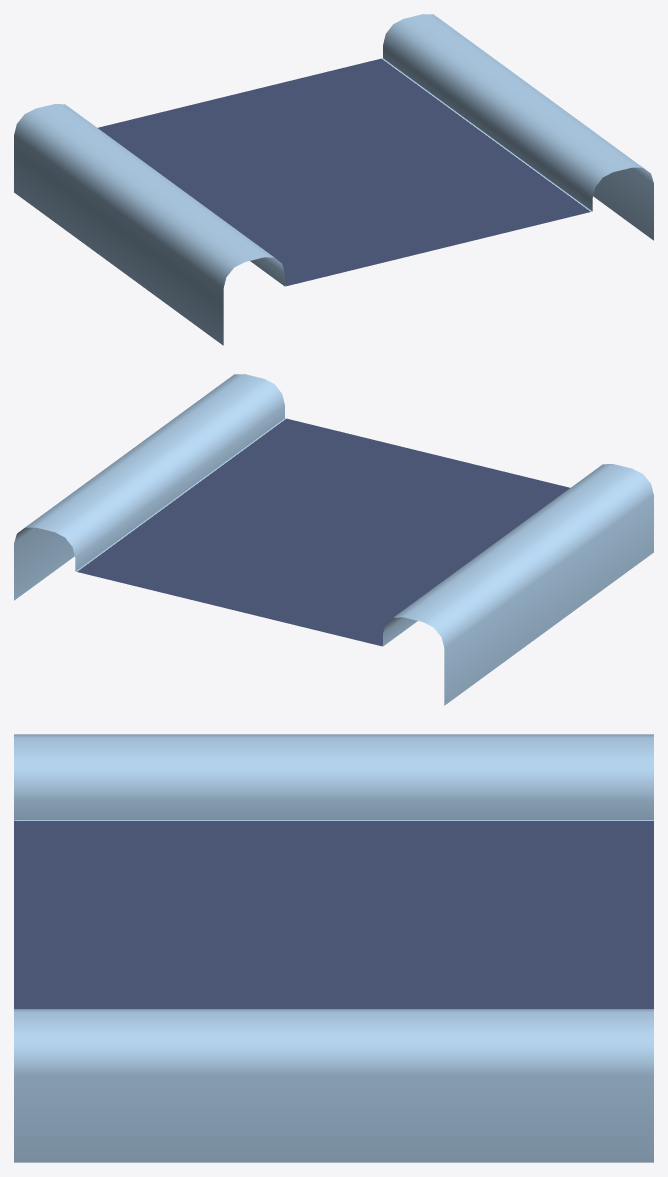
File: ConveyorBelt_part.fbx
3 views of the same model, one above another, from view 1: azimuth 30°, elevation 25°; view 2: azimuth 150°, elevation 25°; view 3: azimuth 270°, elevation 25° (orthographic). The views are drawn at different scales.
Visible parts, largest first — view 1: ConveyorBelt_part; view 2: ConveyorBelt_part; view 3: ConveyorBelt_part.
Boxes of the visible parts, bbox=[...] form: ConveyorBelt_part: bbox=[14, 14, 653, 345]; ConveyorBelt_part: bbox=[14, 374, 653, 705]; ConveyorBelt_part: bbox=[14, 734, 653, 1162].
Bounding box in the file's own units: 1.19 × 0.2068 × 1.
